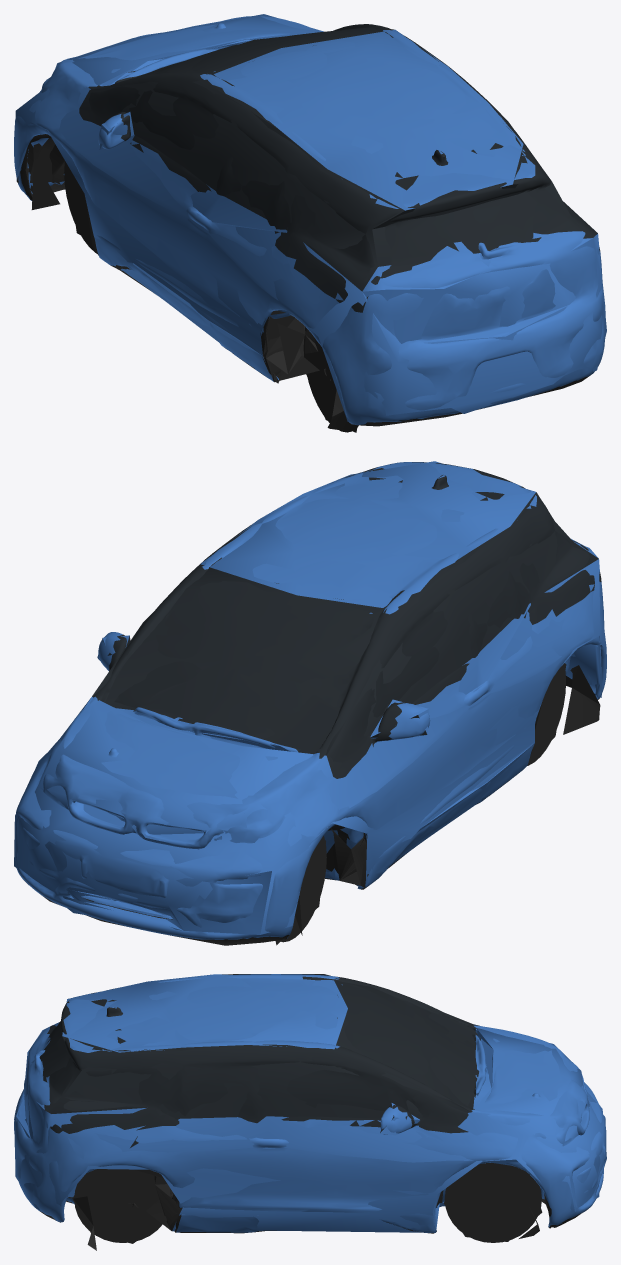
File: bmw-i3.glb
3 views of the same model, one above another, from view 1: azimuth 30°, elevation 25°; view 2: azimuth 150°, elevation 25°; view 3: azimuth 270°, elevation 25° (orthographic). The views are drawn at different scales.
Visible parts, largest first — view 1: body, far; view 2: body, far; view 3: body, far.
Part boxes in pixels (x1,y1,x2,y2): body: [14, 16, 605, 432]; far: [15, 14, 606, 432]; body: [15, 462, 606, 945]; far: [14, 461, 601, 945]; body: [14, 974, 606, 1250]; far: [15, 974, 606, 1243].
Bounding box in the file's own units: 2.01 × 1.51 × 4.04.
